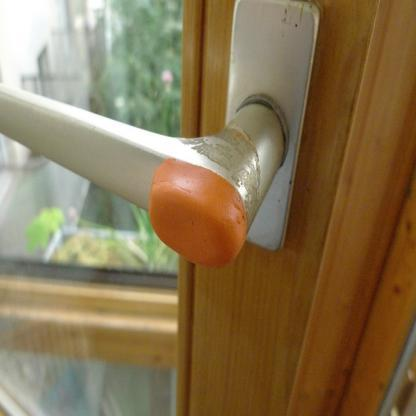door: (0, 0, 323, 415)
lever: (0, 50, 283, 278)
